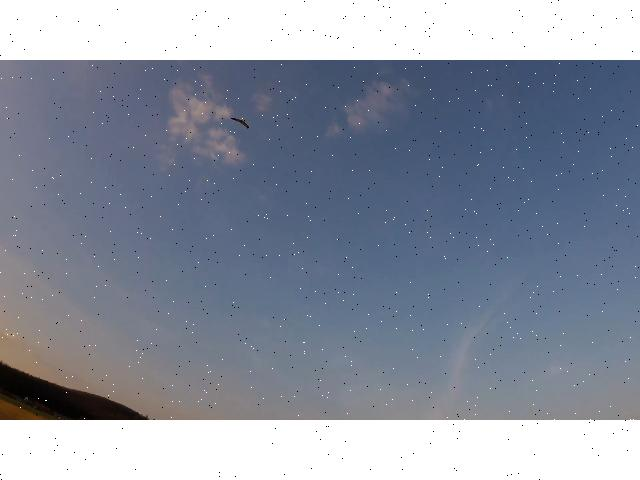Anti-Drone: (231, 119, 249, 129)
